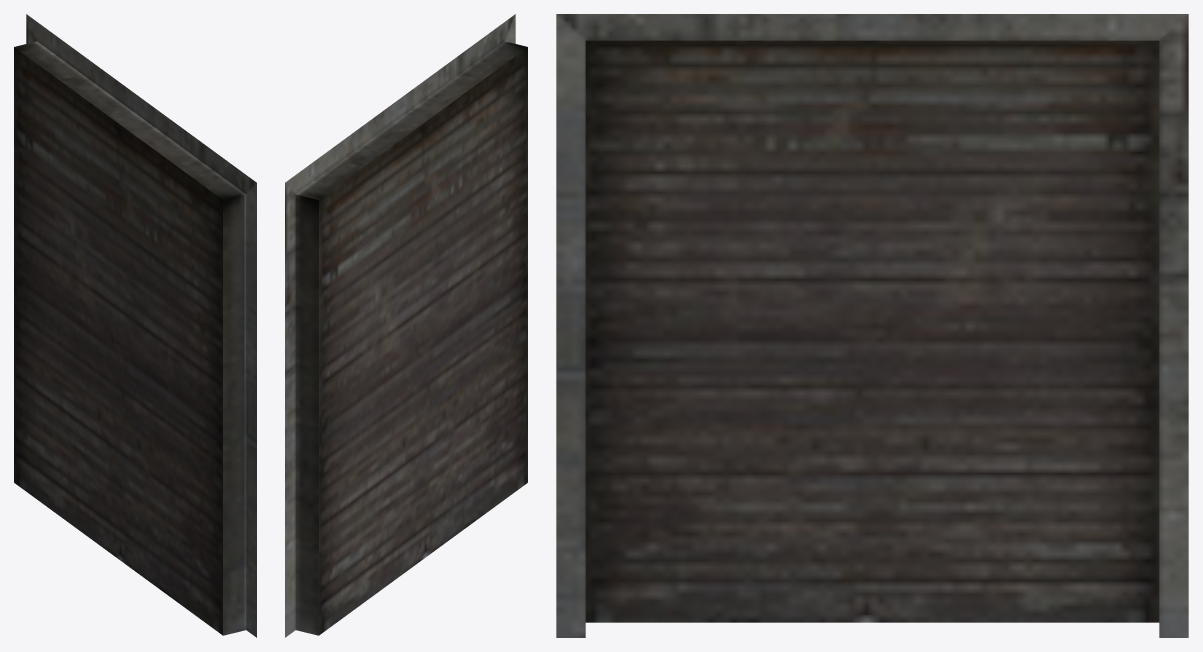
Rendered from Shutter_02.FBX.
The picture shows the model from 3 angles, left to right: view 1: azimuth 30°, elevation 25°; view 2: azimuth 150°, elevation 25°; view 3: azimuth 270°, elevation 25°; orthographic projection. The views are drawn at different scales.
Visible parts, largest first — view 1: Shutter_02; view 2: Shutter_02; view 3: Shutter_02.
Part boxes in pixels (x1,y1,x2,y2): Shutter_02: [14, 14, 256, 637]; Shutter_02: [285, 14, 527, 637]; Shutter_02: [556, 14, 1188, 637].
Bounding box in the file's own units: 18.62 × 351 × 322.
